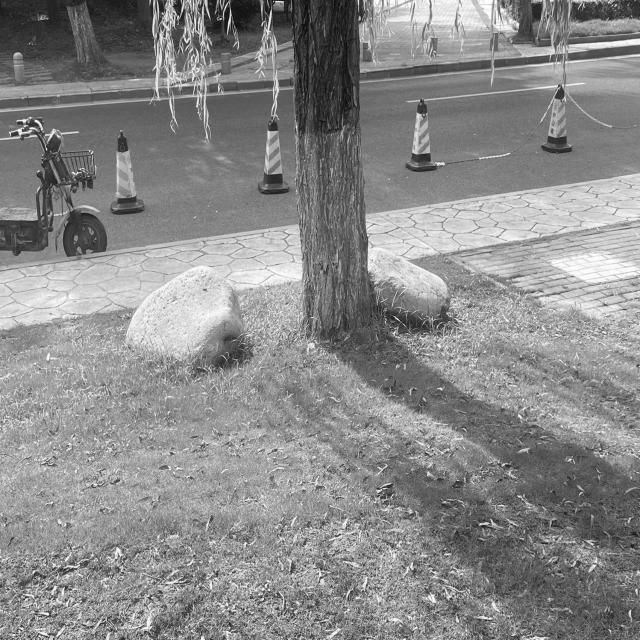Motorcycle: (0, 117, 108, 255)
Stone: (126, 266, 242, 362), (369, 248, 450, 323)
Tree: (293, 0, 371, 341)
